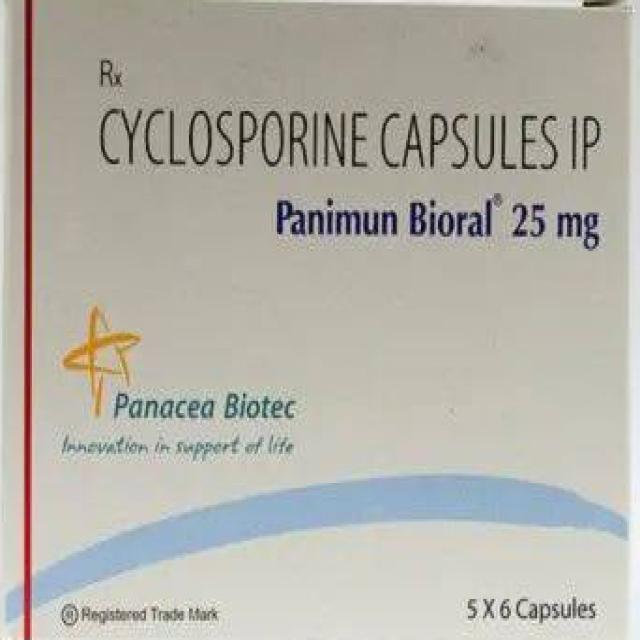drug-name: (113, 388, 302, 427)
